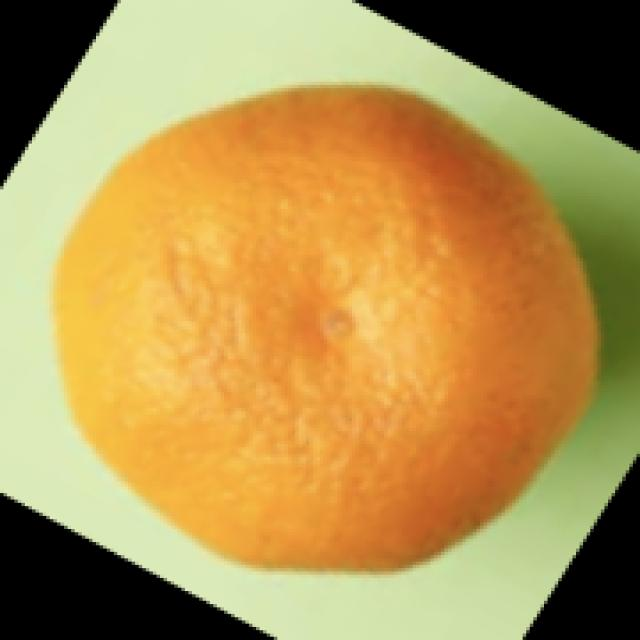matang: (51, 93, 598, 568)
